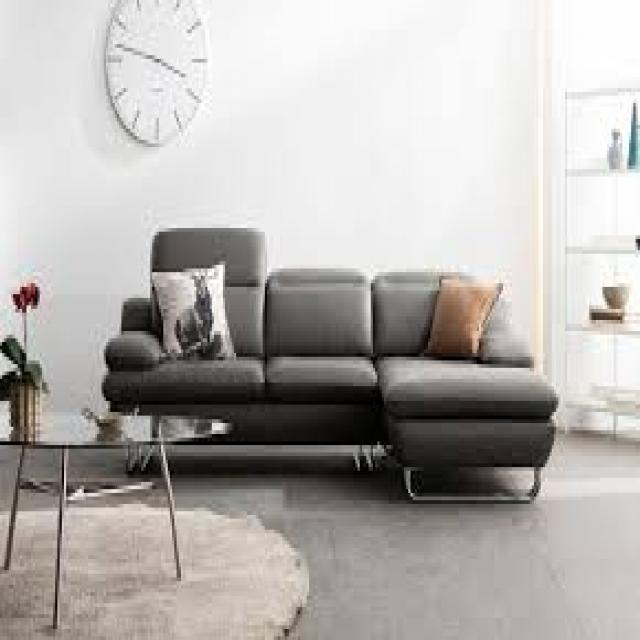Sofa: (92, 204, 574, 536)
